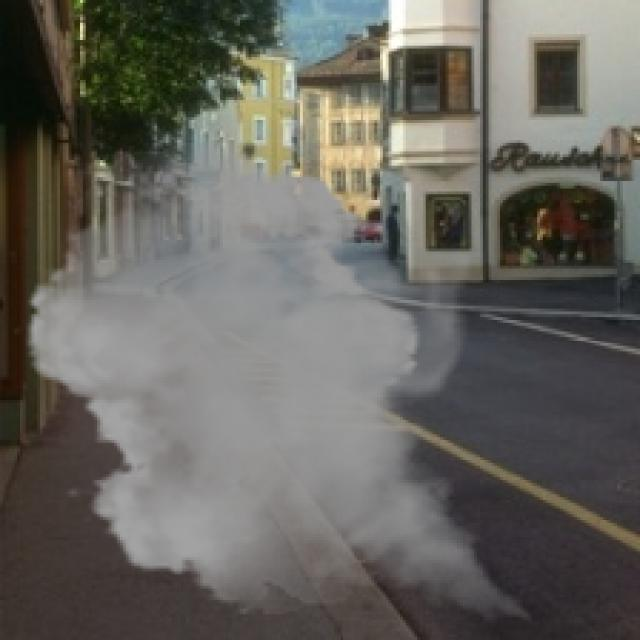smoke: (11, 115, 560, 634)
